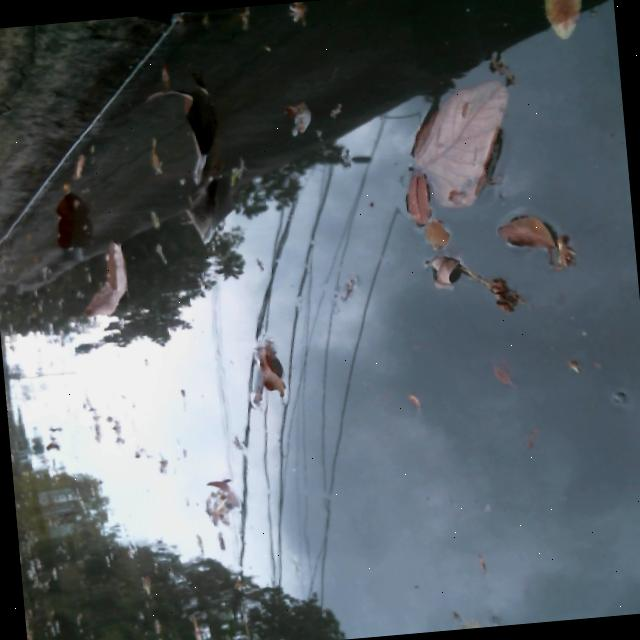Big-leaf: (410, 72, 520, 209), (144, 77, 224, 185), (71, 236, 137, 323), (177, 177, 224, 244), (205, 468, 249, 529), (46, 187, 79, 250)
Small-leaf: (463, 257, 528, 316), (490, 212, 555, 255), (535, 0, 591, 41), (251, 337, 287, 397), (399, 174, 432, 223), (425, 251, 464, 292), (279, 97, 317, 136), (421, 215, 457, 250), (487, 355, 519, 389), (280, 0, 316, 28), (65, 146, 94, 180), (404, 383, 430, 417), (38, 430, 65, 455)
